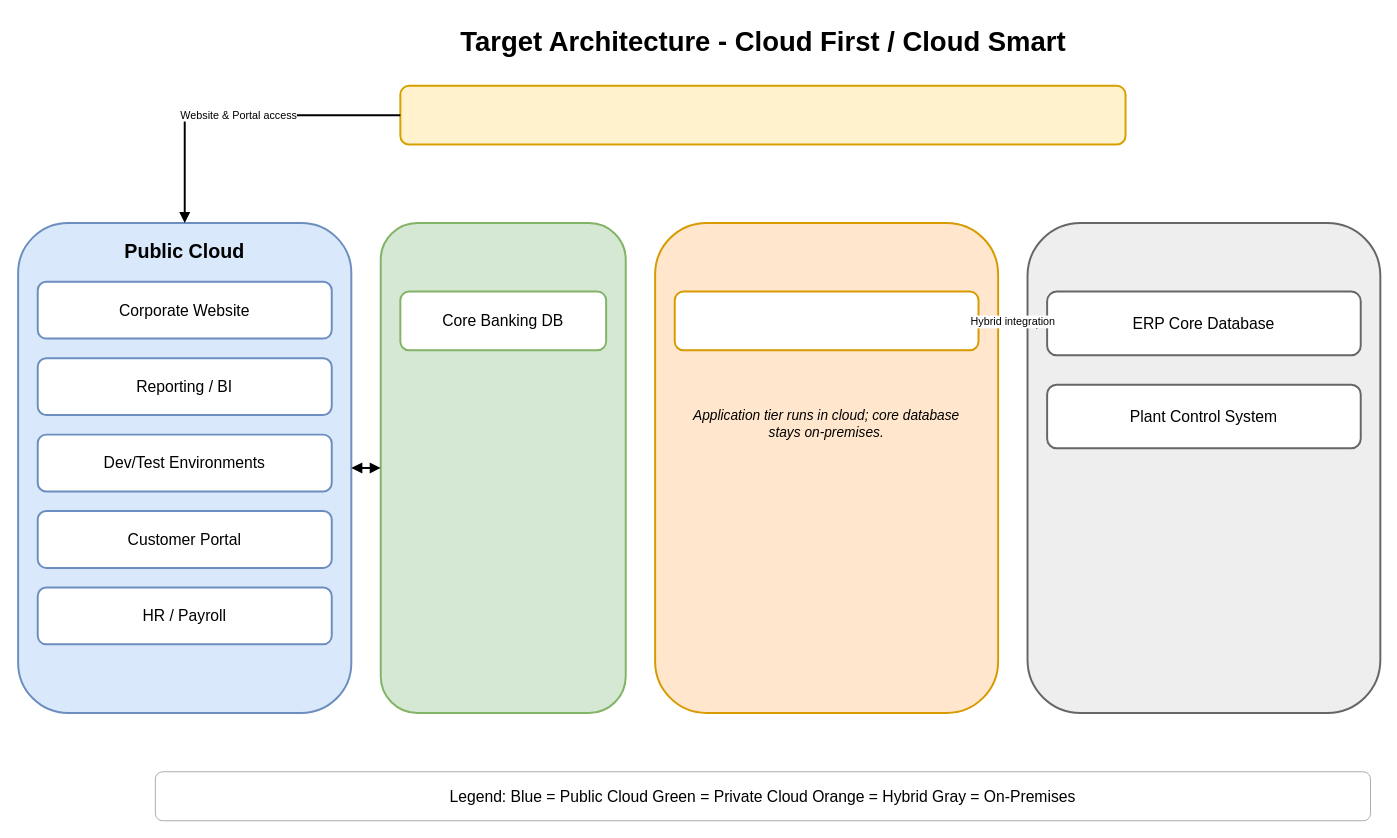
This 1397x838 diagram has some shape labels left out. Here are the shapes that lost their labels. From the top down, the box of each, then its label:
(399, 84, 1126, 145): Users (Customers, Employees, Plant Operators)
(673, 290, 979, 351): ERP Application Tier
(379, 221, 626, 713): Private Cloud
(654, 221, 999, 713): Hybrid
(1026, 221, 1381, 713): On-Premises
